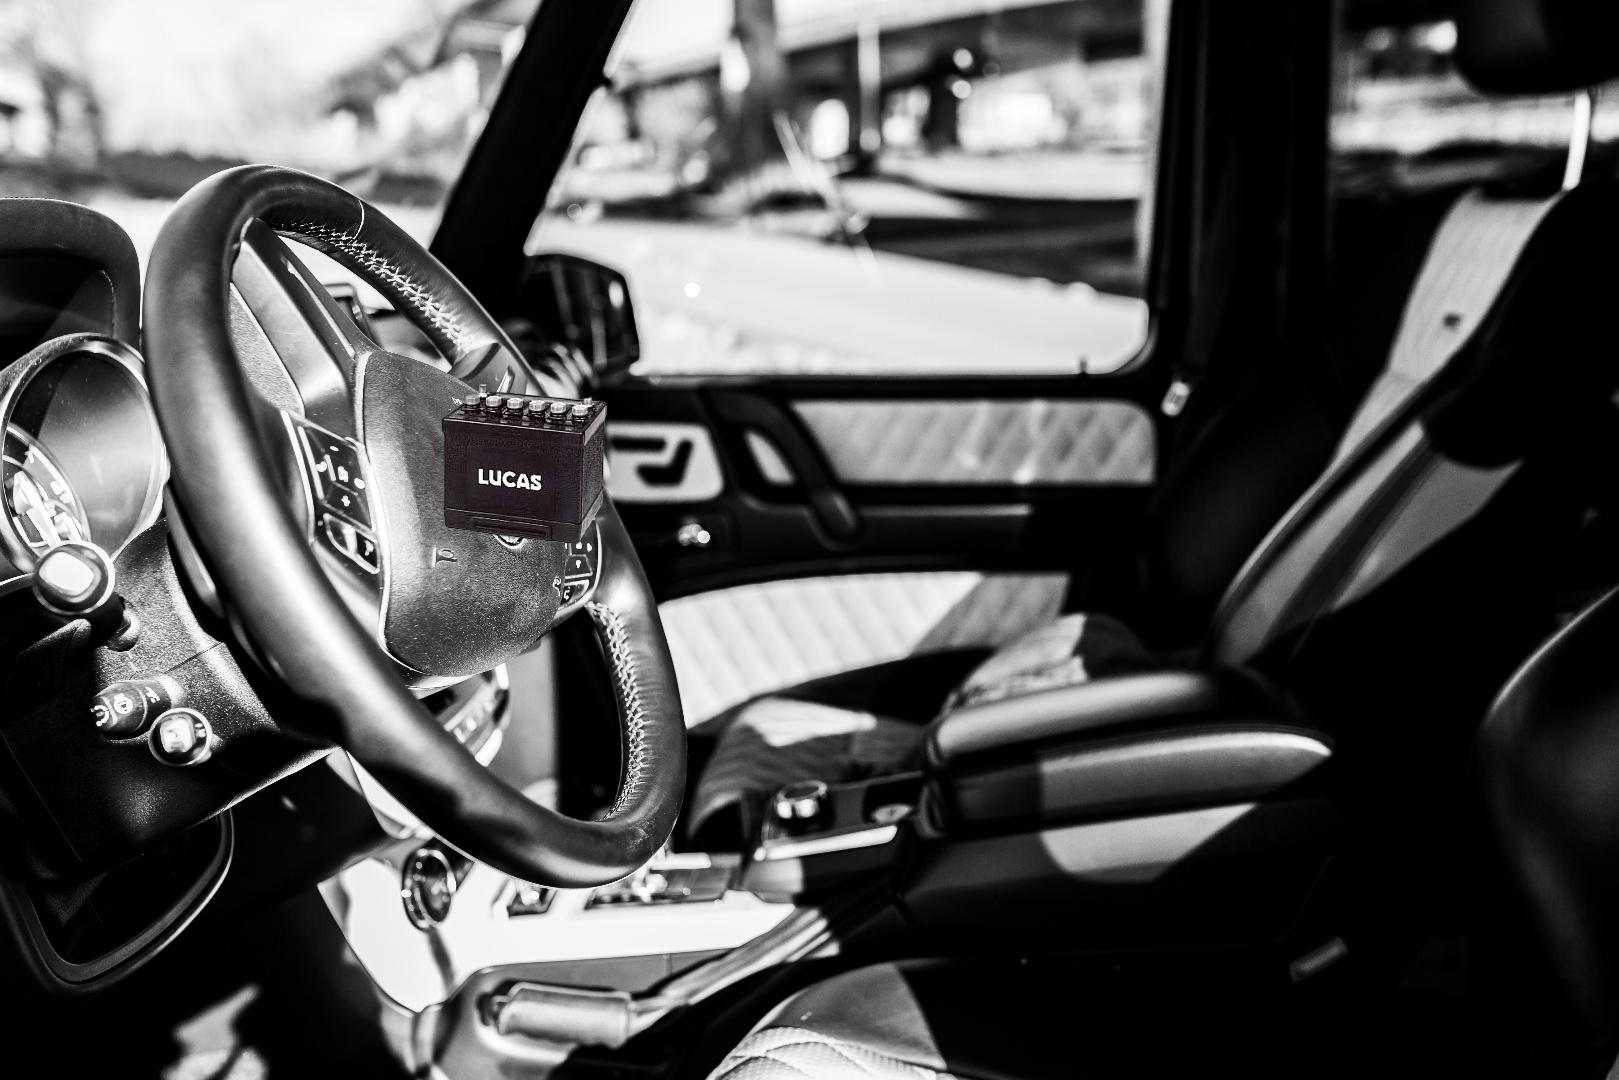battery: (422, 381, 610, 547)
